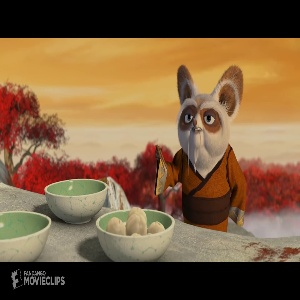shifu: (154, 63, 250, 234)
